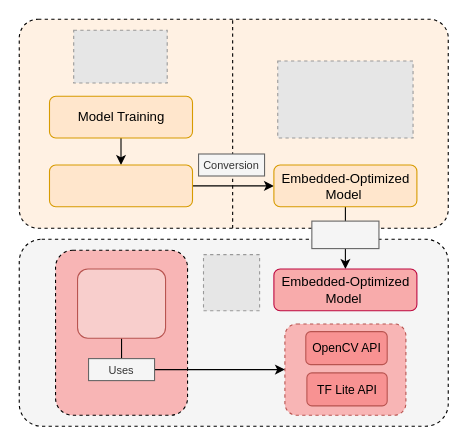
Image size: 468x446. Some labels were removed from this diagram. Grey dashed boxes stand in for pictures. Each missing label, with the centre of its shape:
ARGOS Inference Engine: [121,303]
Deployment: [345,234]
Model: [120,185]
